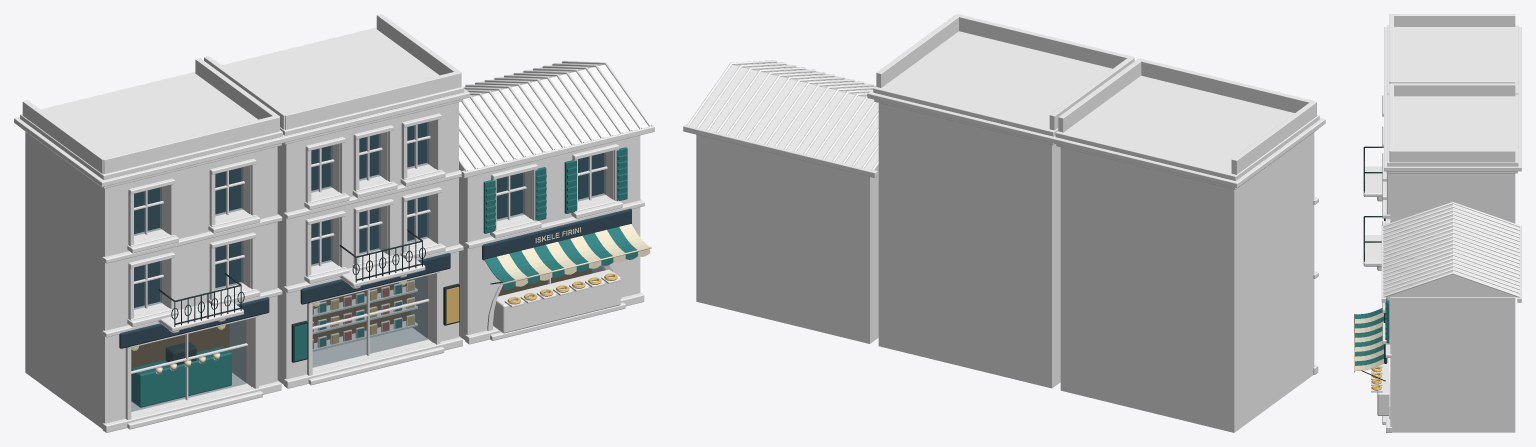
Rendered from DistrictBlock_3_0.glb.
3 renders of one model, left to right at view 1: azimuth 30°, elevation 25°; view 2: azimuth 150°, elevation 25°; view 3: azimuth 270°, elevation 25°, orthographic. The views are drawn at different scales.
Parts seen in each view (by area): view 1: RK_DistrictBlock_3_0_LC_Lime, RK_DistrictBlock_3_0_LC_Brick, RK_DistrictBlock_3_0_LC_Glass, RK_DistrictBlock_3_0_LC_Ink, RK_DistrictBlock_3_0_LC_Wood, RK_DistrictBlock_3_0_LC_Tile, RK_DistrictBlock_3_0_LC_Teal, RK_DistrictBlock_3_0_LC_Cream, RK_DistrictBlock_3_0_LC_Interior, RK_DistrictBlock_3_0_LC_Canvas, RK_DistrictBlock_3_0_LC_Iron, RK_DistrictBlock_3_0_LC_Gold; view 2: RK_DistrictBlock_3_0_LC_Lime, RK_DistrictBlock_3_0_LC_Brick, RK_DistrictBlock_3_0_LC_Cream, RK_DistrictBlock_3_0_LC_Tile, RK_DistrictBlock_3_0_LC_Wood; view 3: RK_DistrictBlock_3_0_LC_Lime, RK_DistrictBlock_3_0_LC_Cream, RK_DistrictBlock_3_0_LC_Tile, RK_DistrictBlock_3_0_LC_Brick, RK_DistrictBlock_3_0_LC_Teal, RK_DistrictBlock_3_0_LC_Canvas, RK_DistrictBlock_3_0_LC_Wood, RK_DistrictBlock_3_0_LC_Iron, RK_DistrictBlock_3_0_LC_Gold.
Boxes of the visible parts, bbox=[...] form: RK_DistrictBlock_3_0_LC_Lime: bbox=[14, 14, 644, 432]; RK_DistrictBlock_3_0_LC_Brick: bbox=[22, 58, 279, 428]; RK_DistrictBlock_3_0_LC_Glass: bbox=[131, 122, 605, 411]; RK_DistrictBlock_3_0_LC_Ink: bbox=[119, 122, 631, 348]; RK_DistrictBlock_3_0_LC_Wood: bbox=[131, 62, 654, 416]; RK_DistrictBlock_3_0_LC_Tile: bbox=[459, 61, 651, 171]; RK_DistrictBlock_3_0_LC_Teal: bbox=[131, 147, 637, 407]; RK_DistrictBlock_3_0_LC_Cream: bbox=[459, 135, 640, 340]; RK_DistrictBlock_3_0_LC_Interior: bbox=[131, 268, 592, 367]; RK_DistrictBlock_3_0_LC_Canvas: bbox=[155, 224, 651, 374]; RK_DistrictBlock_3_0_LC_Iron: bbox=[158, 229, 501, 365]; RK_DistrictBlock_3_0_LC_Gold: bbox=[332, 273, 617, 343]; RK_DistrictBlock_3_0_LC_Lime: bbox=[867, 14, 1325, 388]; RK_DistrictBlock_3_0_LC_Brick: bbox=[1058, 58, 1316, 432]; RK_DistrictBlock_3_0_LC_Cream: bbox=[696, 134, 878, 343]; RK_DistrictBlock_3_0_LC_Tile: bbox=[687, 60, 878, 170]; RK_DistrictBlock_3_0_LC_Wood: bbox=[683, 61, 877, 177]; RK_DistrictBlock_3_0_LC_Lime: bbox=[1363, 25, 1521, 432]; RK_DistrictBlock_3_0_LC_Cream: bbox=[1390, 297, 1515, 432]; RK_DistrictBlock_3_0_LC_Tile: bbox=[1382, 202, 1520, 297]; RK_DistrictBlock_3_0_LC_Brick: bbox=[1389, 14, 1515, 83]; RK_DistrictBlock_3_0_LC_Teal: bbox=[1355, 297, 1389, 365]; RK_DistrictBlock_3_0_LC_Canvas: bbox=[1354, 313, 1384, 372]; RK_DistrictBlock_3_0_LC_Wood: bbox=[1377, 225, 1521, 415]; RK_DistrictBlock_3_0_LC_Iron: bbox=[1361, 146, 1385, 381]; RK_DistrictBlock_3_0_LC_Gold: bbox=[1371, 366, 1381, 390].
Bounding box in the file's own units: 19.17 × 9.02 × 6.44.
